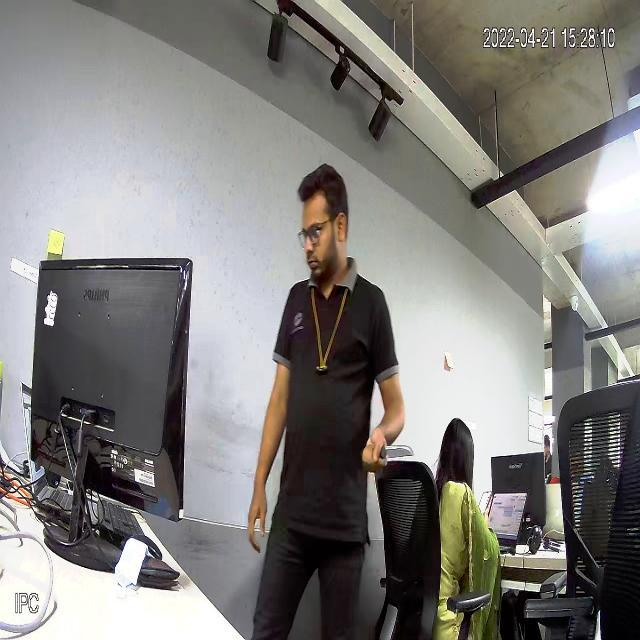Knife: (364, 433, 418, 471)
